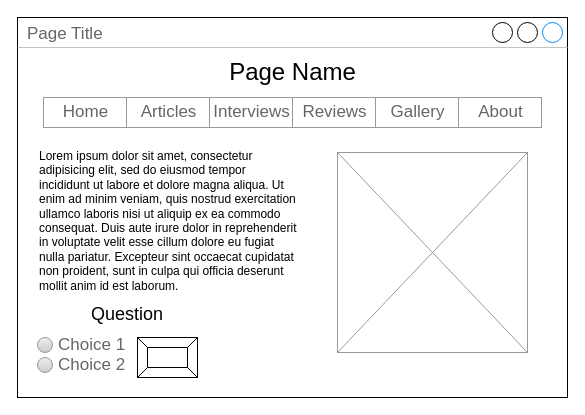
The diagram is 585 pixels wide and 415 high, and some of its shapes have lost their labels. Here are the shapes that lost their labels. From the top down, the centre of each, then its label:
point 432,252: Image
point 167,357: Submit
